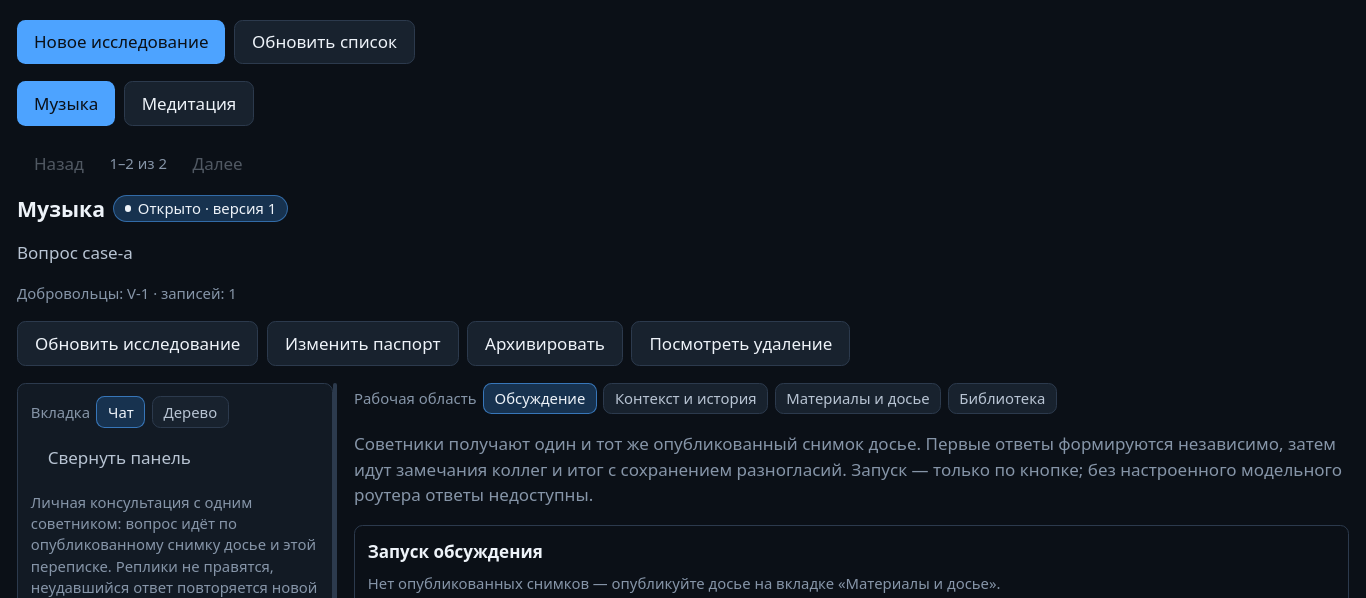
Test: Консилиум: ручное исследование Т1 › архивирует и блокирует запись до открытия
Expected: the heading "Музыка" is shown, left=17, top=194, right=105, bottom=223
Click the button "Контекст и история".
click(686, 398)  # box left=603, top=382, right=768, bottom=414
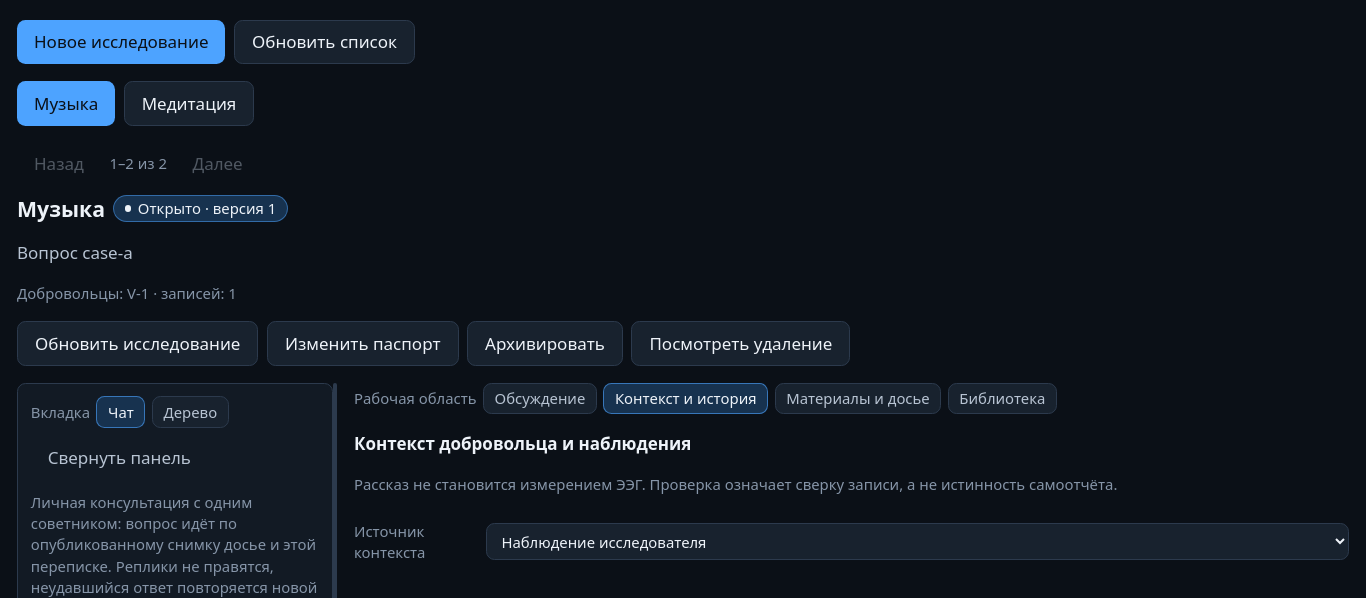
Click the button "Архивировать".
click(545, 343)  # box left=467, top=321, right=623, bottom=366
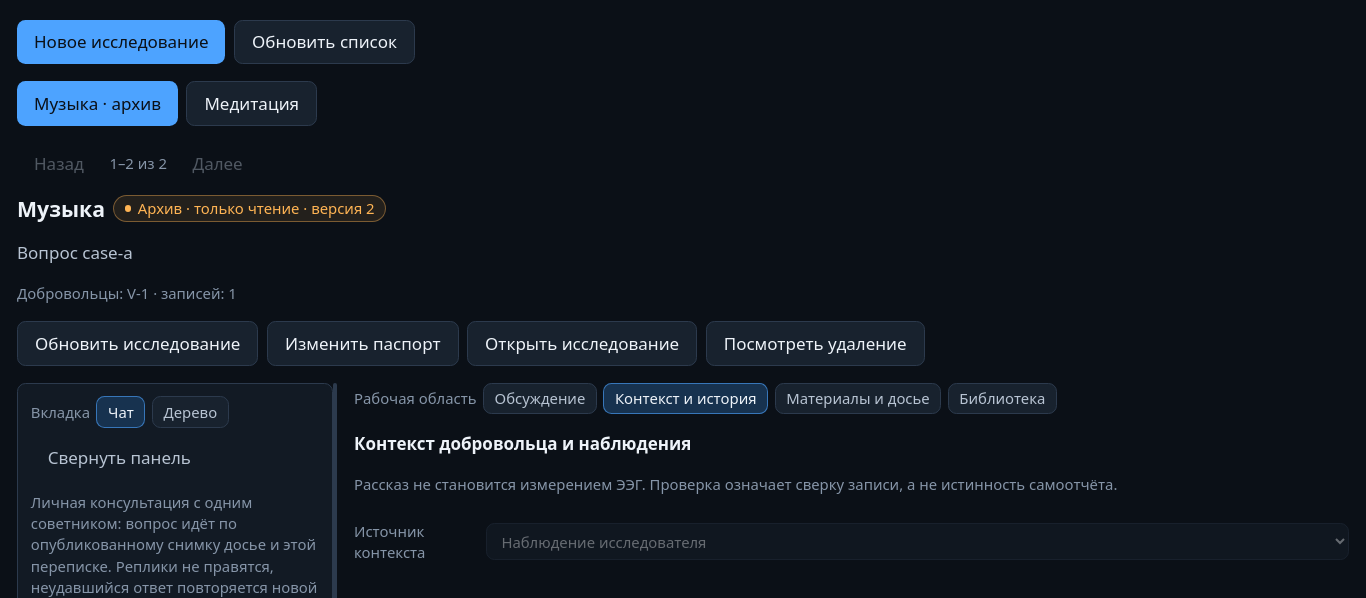
Expected: the text "Архив · только чтение · версия 2" is shown, left=114, top=195, right=386, bottom=222
Click the button "Открыть исследование".
click(582, 343)  # box left=467, top=321, right=697, bottom=366
(page scrolled)
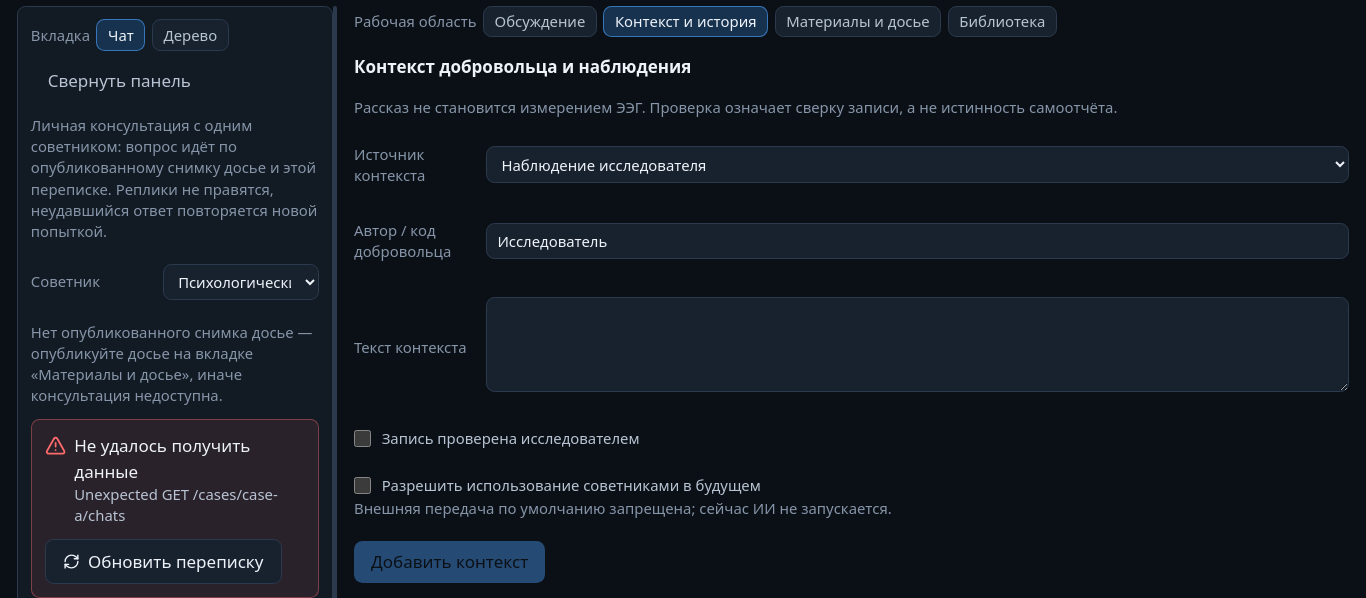
Expected: the text box labelled "Текст контекста" is enabled, left=486, top=296, right=1349, bottom=392
